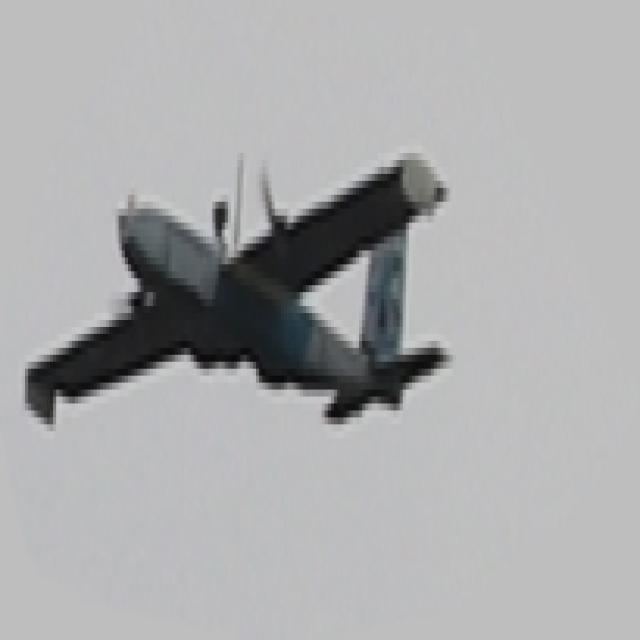iha: (2, 153, 443, 417)
